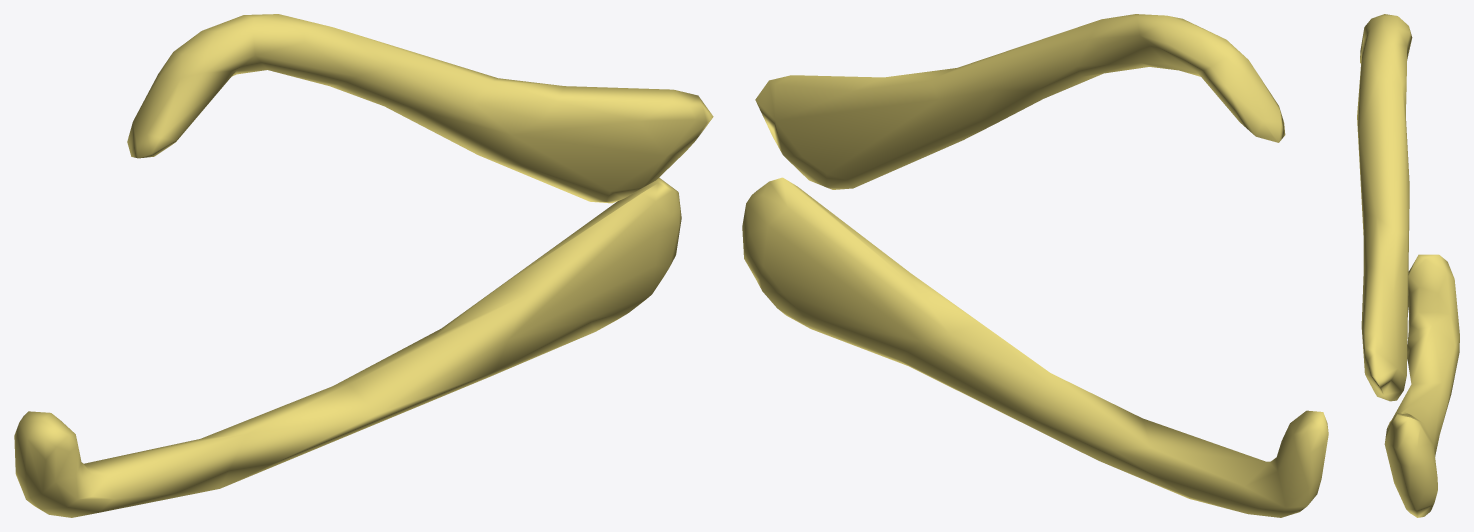
The model's file is lacrimal-canaliculus-r.glb.
3 views of the same model, side by side, from view 1: azimuth 30°, elevation 25°; view 2: azimuth 150°, elevation 25°; view 3: azimuth 270°, elevation 25° (orthographic). The views are drawn at different scales.
Parts seen in each view (by area): view 1: Lacrimal canaliculus.r; view 2: Lacrimal canaliculus.r; view 3: Lacrimal canaliculus.r.
Boxes of the visible parts, box(x1,y1,x2,y2) form: Lacrimal canaliculus.r: box(14, 14, 713, 517); Lacrimal canaliculus.r: box(742, 14, 1328, 517); Lacrimal canaliculus.r: box(1357, 14, 1459, 517).
Bounding box in the file's own units: 0.00706 × 0.00501 × 0.00116.
